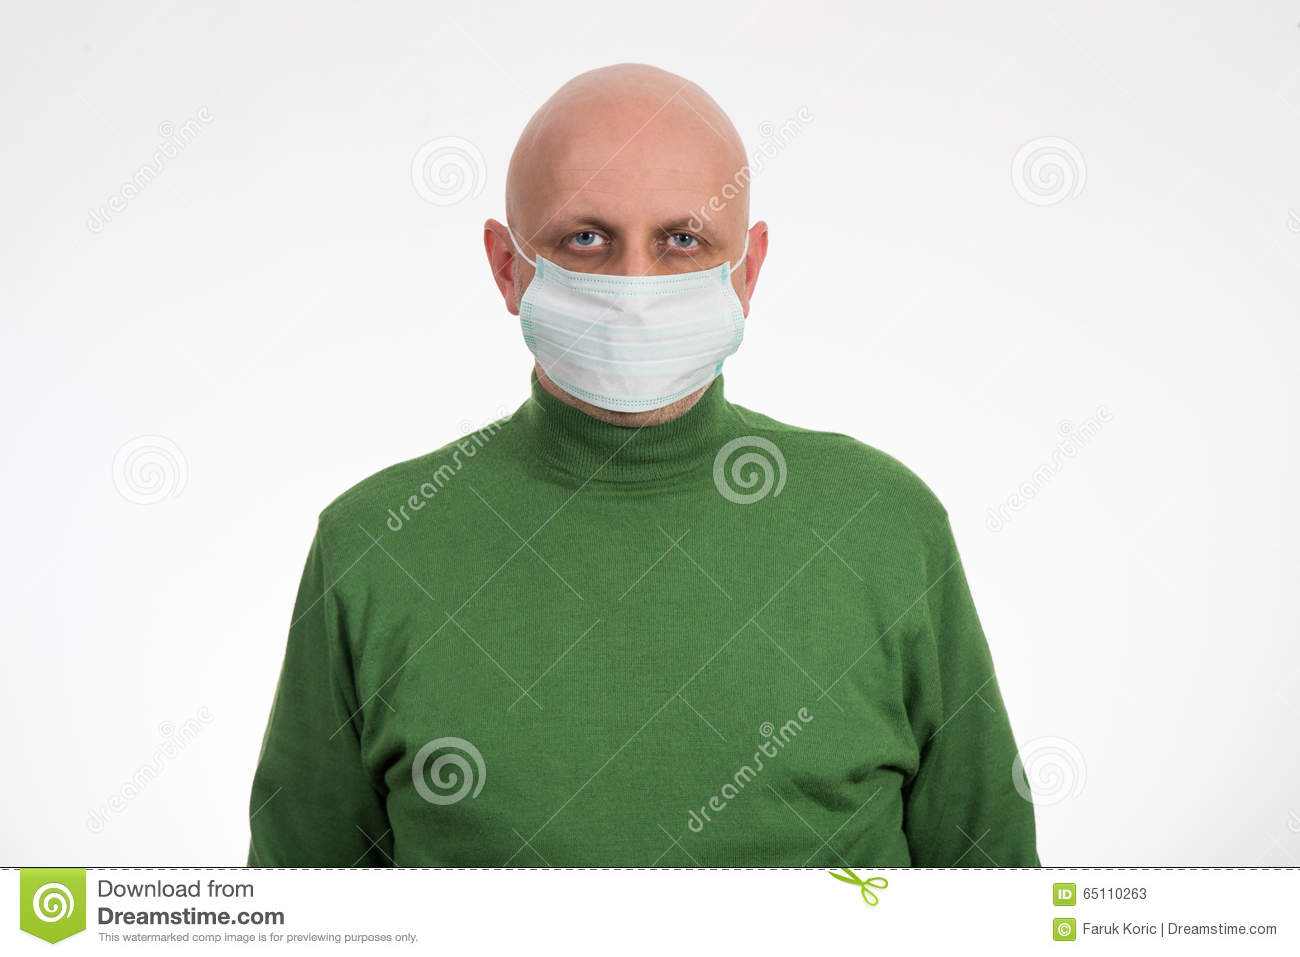mask: (521, 258, 741, 409)
